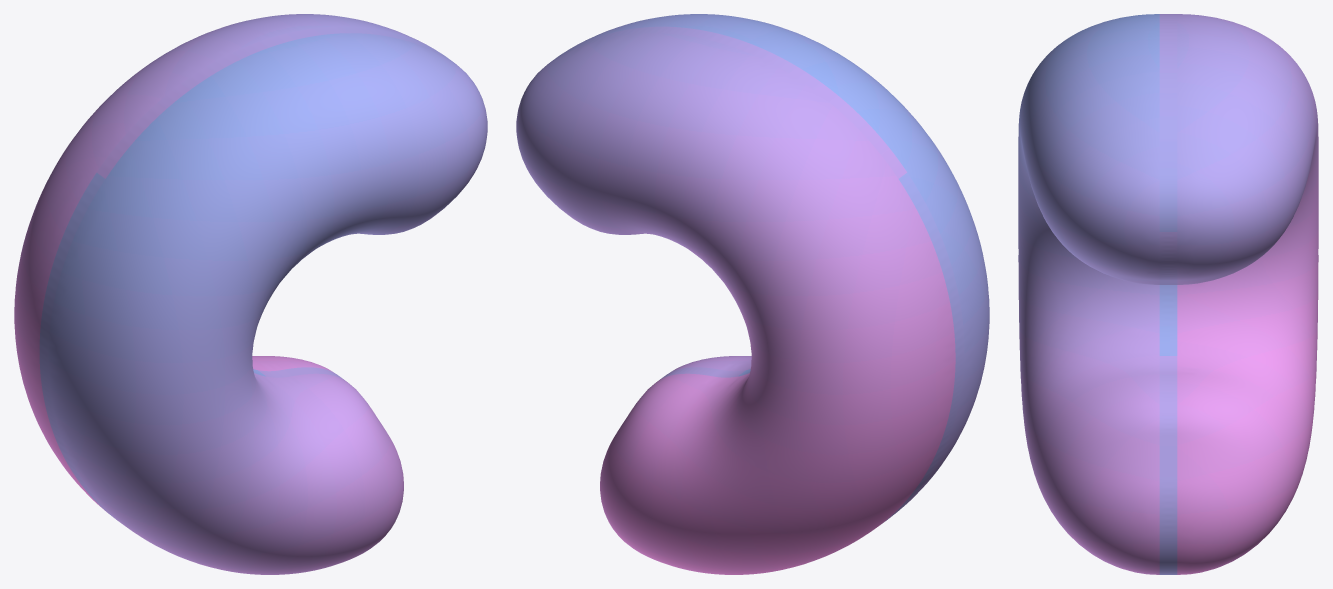
3 views of the same model, side by side, from view 1: azimuth 30°, elevation 25°; view 2: azimuth 150°, elevation 25°; view 3: azimuth 270°, elevation 25° (orthographic).
Bounding box in the file's own units: 0.1102 × 0.128 × 0.0677.
1 material, 1 textured.
